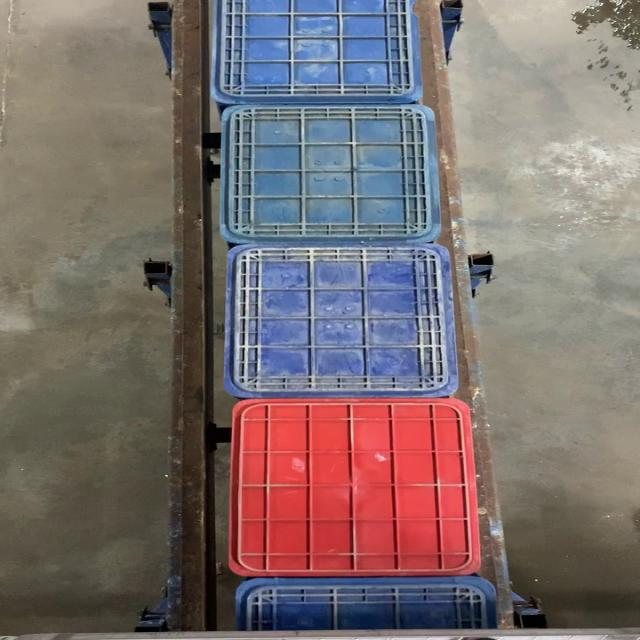Box: (220, 243, 462, 398), (216, 106, 444, 244)
